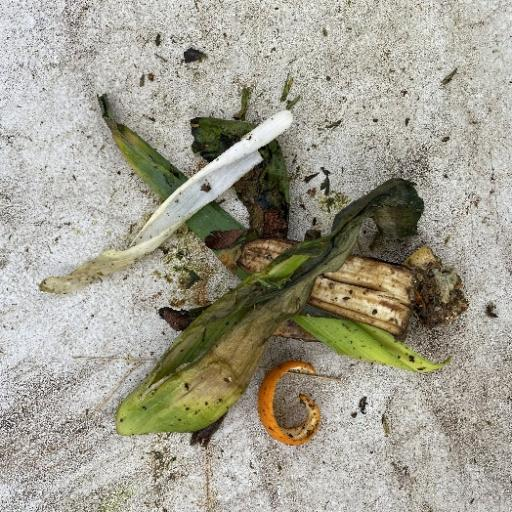Waste: (39, 91, 469, 445), (255, 358, 341, 446)
